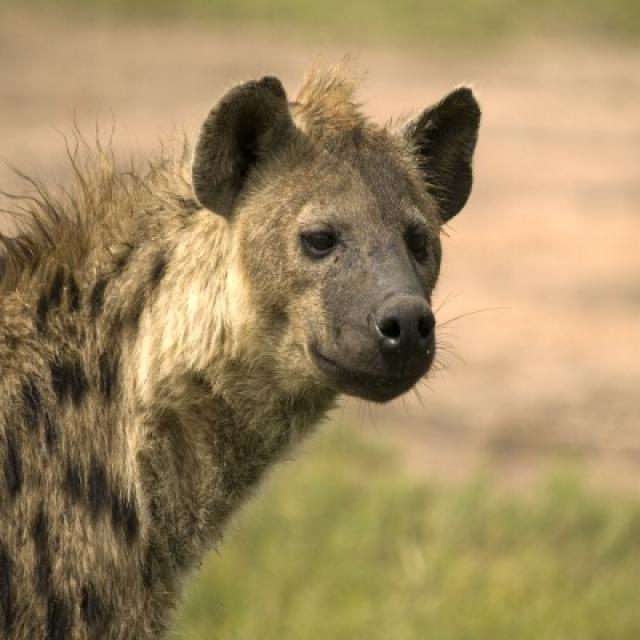hyena: (0, 62, 483, 638)
